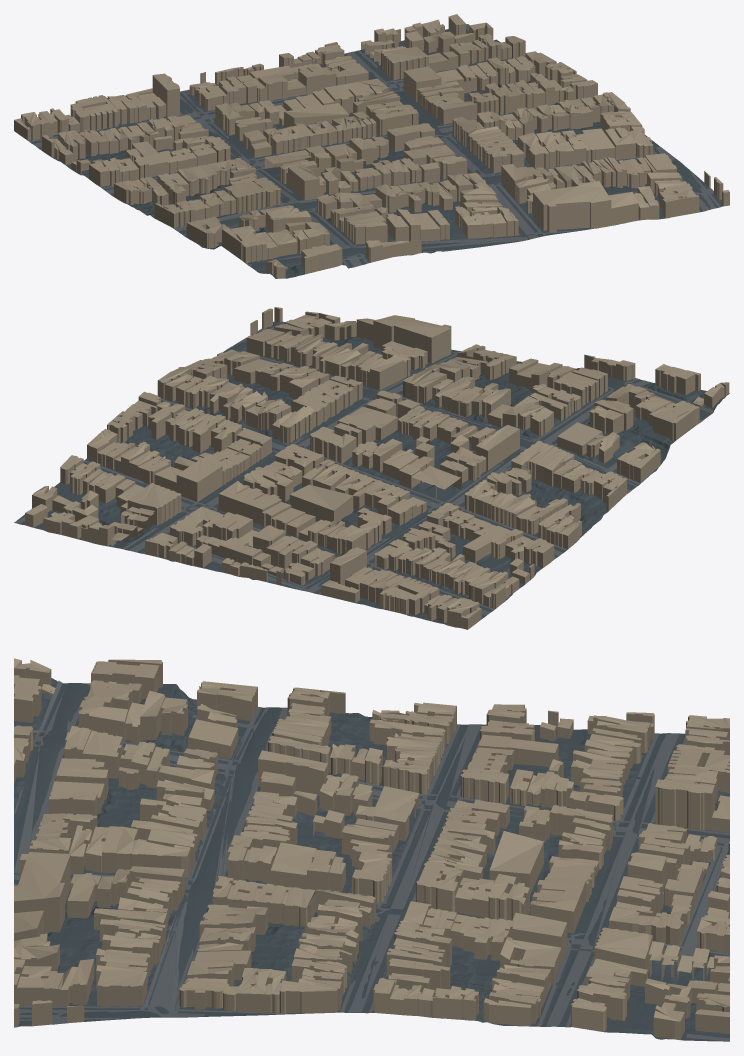
File: epsg26910-1432-10887.lod0.glb
3 views of the same model, one above another, from view 1: azimuth 30°, elevation 25°; view 2: azimuth 150°, elevation 25°; view 3: azimuth 270°, elevation 25° (orthographic). The views are drawn at different scales.
Visible parts, largest first — view 1: epsg26910-1432-10887-lod0; view 2: epsg26910-1432-10887-lod0; view 3: epsg26910-1432-10887-lod0.
Part boxes in pixels (x1,y1,x2,y2): epsg26910-1432-10887-lod0: (14,14,729,278); epsg26910-1432-10887-lod0: (14,307,729,629); epsg26910-1432-10887-lod0: (14,658,729,1041).
Bounding box in the file's own units: 384 × 51.49 × 384.
